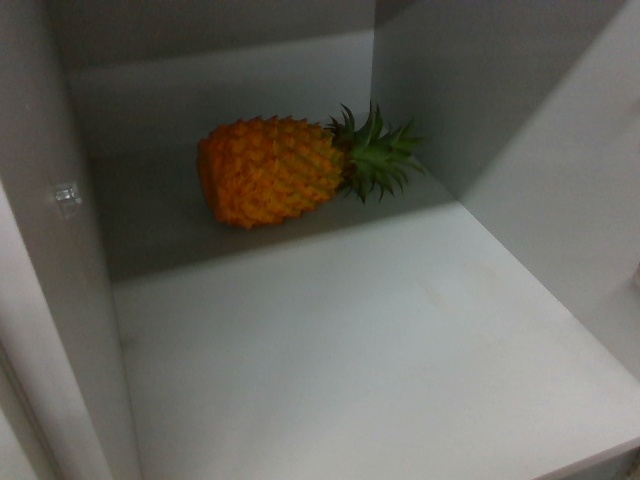pineapple: (195, 104, 428, 227)
